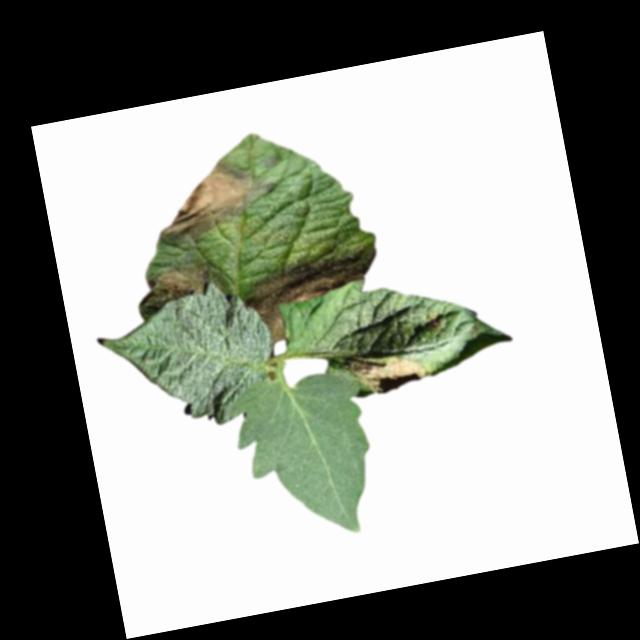Late_blight: (241, 241, 389, 347), (145, 149, 281, 245), (346, 344, 430, 399), (136, 259, 216, 307)
